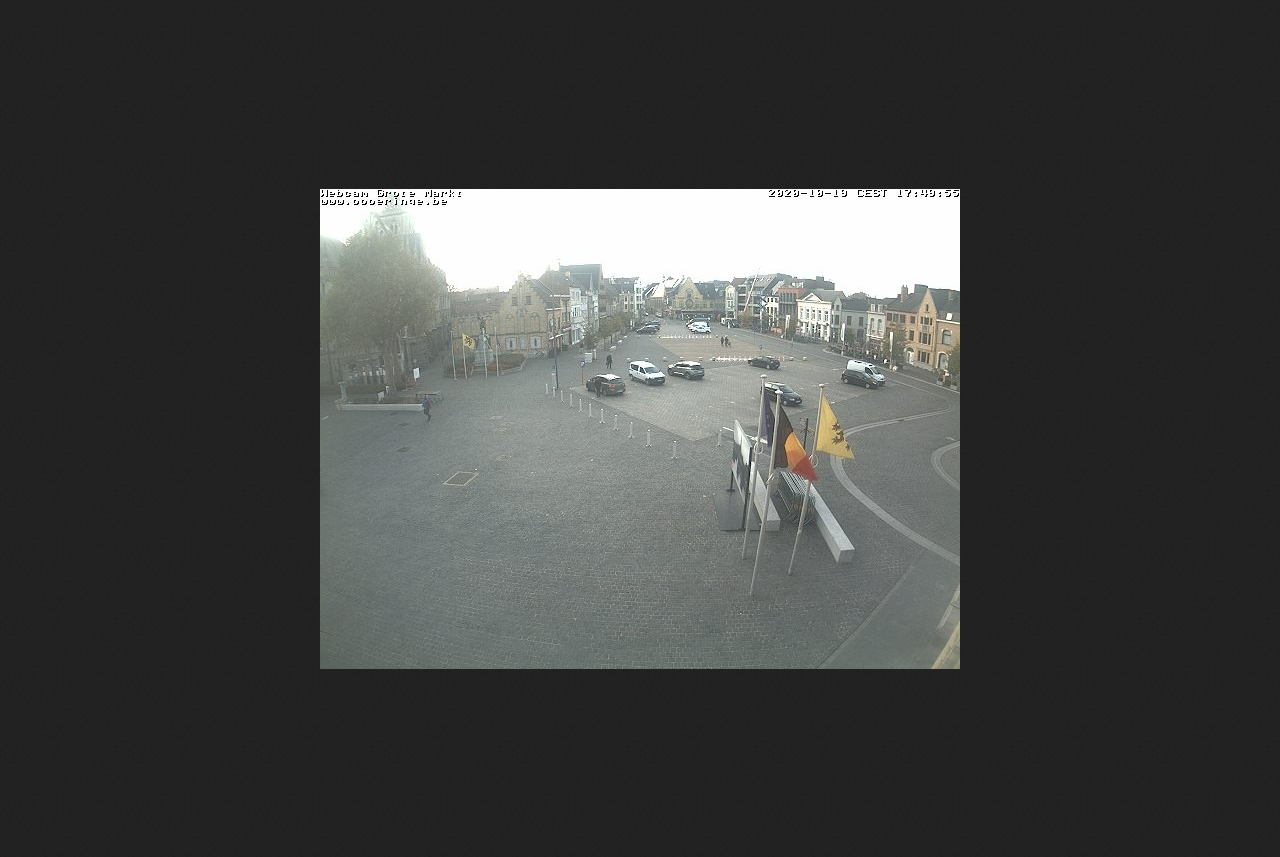maybe: (775, 403, 819, 483), (812, 389, 858, 465), (757, 387, 780, 448), (460, 333, 475, 351), (483, 332, 493, 350), (494, 331, 501, 347)
no: (448, 333, 455, 352)
